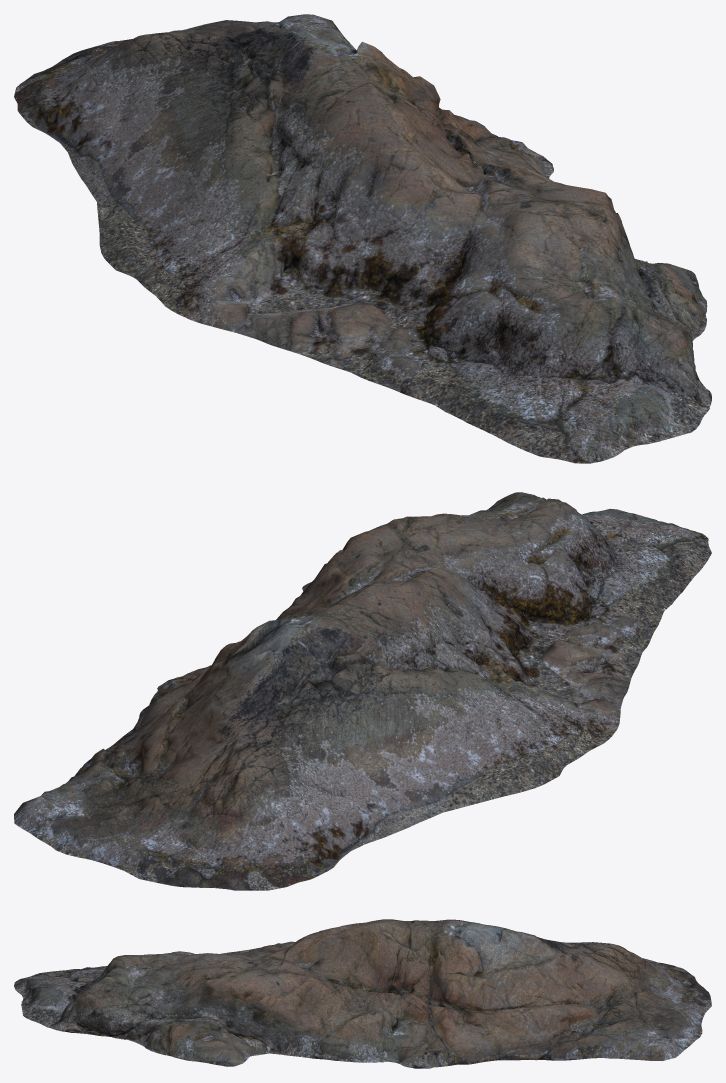
The model's file is big_long_rock.glb.
The picture shows the model from 3 angles, top to bottom: view 1: azimuth 30°, elevation 25°; view 2: azimuth 150°, elevation 25°; view 3: azimuth 270°, elevation 25°; orthographic projection. The views are drawn at different scales.
Visible parts, largest first — view 1: Low Poly Coastal Rock; view 2: Low Poly Coastal Rock; view 3: Low Poly Coastal Rock.
Part boxes in pixels (x1=…): Low Poly Coastal Rock: x1=14, y1=14, x2=711, y2=463; Low Poly Coastal Rock: x1=14, y1=492, x2=711, y2=890; Low Poly Coastal Rock: x1=14, y1=919, x2=711, y2=1068.
Size of the model in its own units: 3.97 by 1.18 by 8.68.
Materials: 1 (1 with a texture image).
